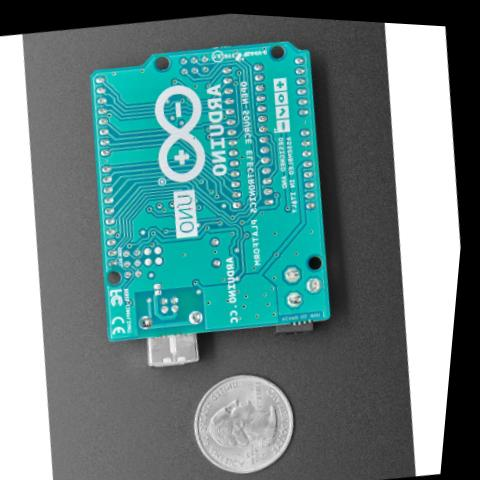Arduino-Uno: (65, 19, 362, 383)
